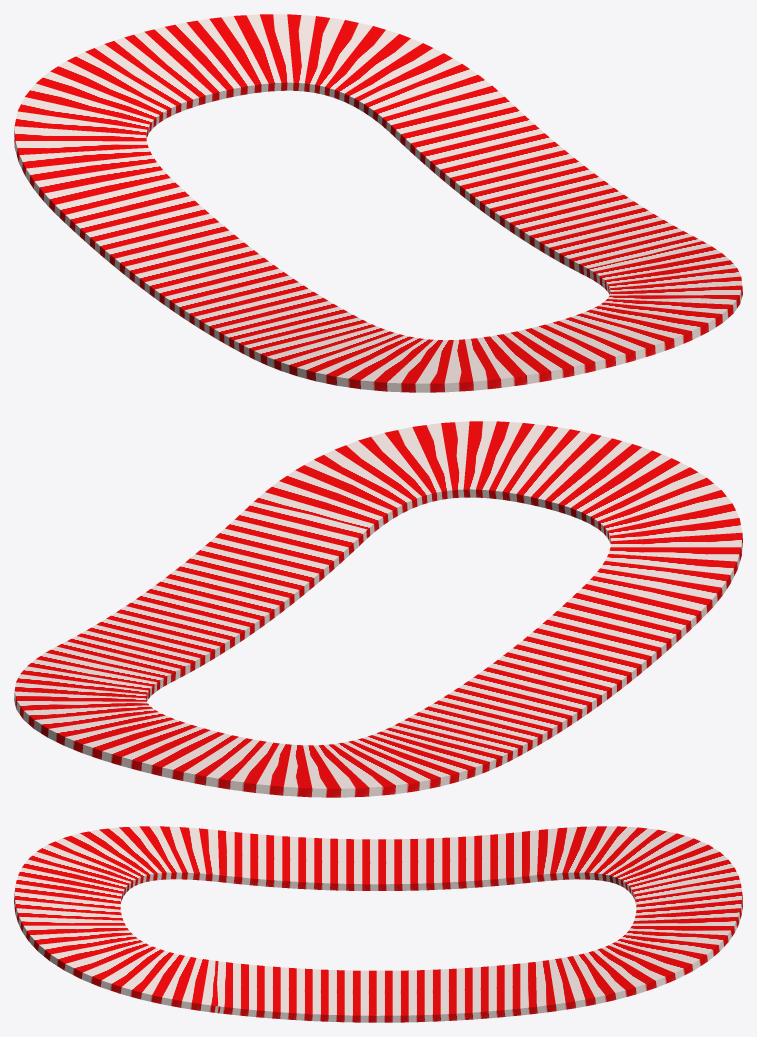
File: courseMk2Collision.obj
3 renders of one model, top to bottom at view 1: azimuth 30°, elevation 25°; view 2: azimuth 150°, elevation 25°; view 3: azimuth 270°, elevation 25°, orthographic. The views are drawn at different scales.
Visible parts, largest first — view 1: Judgment_Cube.002; view 2: Judgment_Cube.002; view 3: Judgment_Cube.002.
Part boxes in pixels (left/top/right/bottom): Judgment_Cube.002: left=14, top=14, right=742, bottom=392; Judgment_Cube.002: left=14, top=421, right=742, bottom=797; Judgment_Cube.002: left=14, top=826, right=742, bottom=1022.
Bounding box in the file's own units: 392 × 40.68 × 685.
